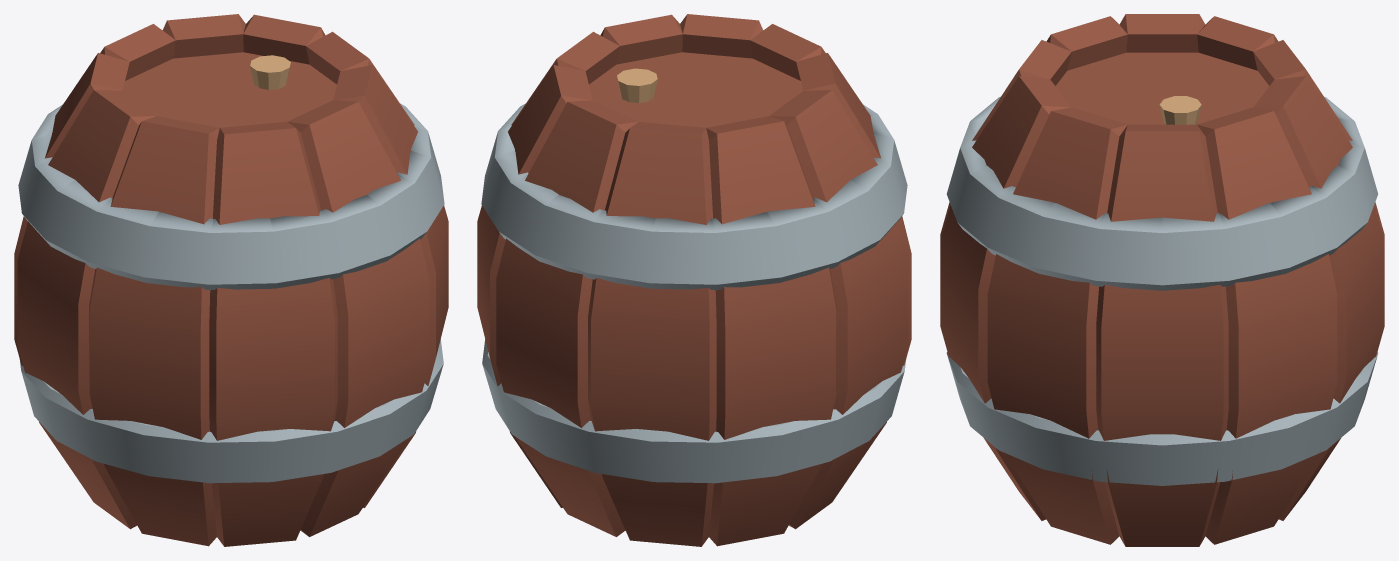
Rendered from barrel.fbx.
3 renders of one model, left to right at view 1: azimuth 30°, elevation 25°; view 2: azimuth 150°, elevation 25°; view 3: azimuth 270°, elevation 25°, orthographic.
Visible parts, largest first — view 1: barrel, barrel.001, barrel.002; view 2: barrel, barrel.001, barrel.002; view 3: barrel, barrel.001, barrel.002.
Boxes of the visible parts, bbox=[...] form: barrel: bbox=[14, 14, 448, 546]; barrel.001: bbox=[18, 103, 444, 290]; barrel.002: bbox=[19, 339, 443, 483]; barrel: bbox=[477, 14, 911, 546]; barrel.001: bbox=[481, 103, 907, 290]; barrel.002: bbox=[482, 339, 906, 483]; barrel: bbox=[940, 14, 1384, 546]; barrel.001: bbox=[946, 96, 1378, 290]; barrel.002: bbox=[946, 352, 1378, 485].
Size of the model in its own units: 94.33 by 100 by 96.84.
